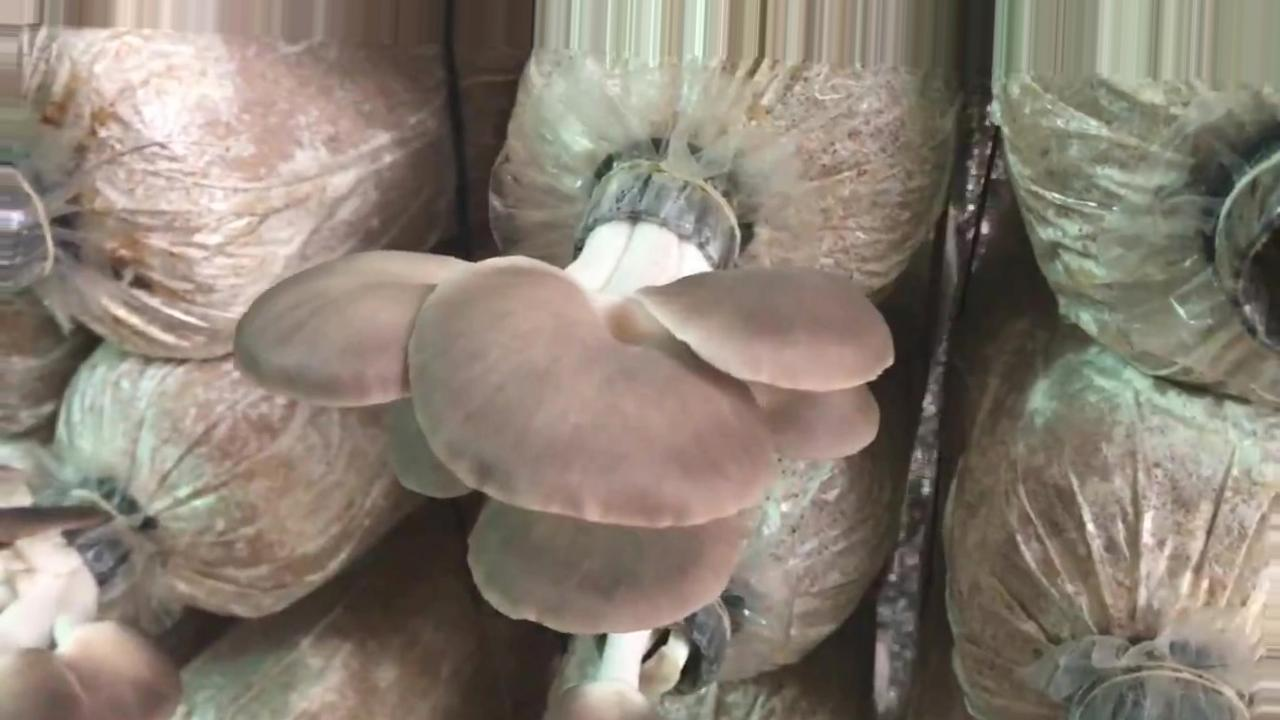nam: (231, 157, 896, 634), (1, 491, 177, 720), (552, 598, 724, 720)
